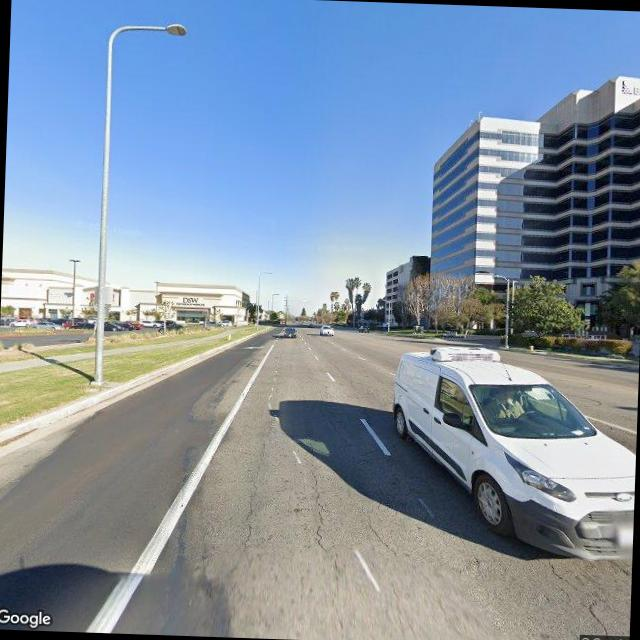crack: (540, 554, 619, 638), (236, 426, 269, 551), (300, 458, 333, 556), (362, 508, 404, 562)
